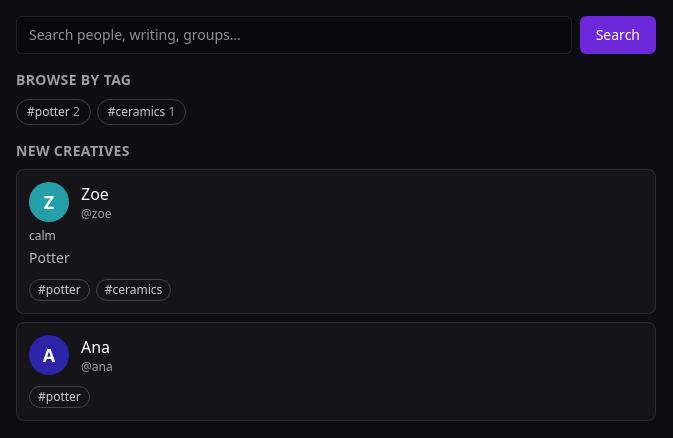
SearchPage: searching › searches people by the trimmed question and links each result to its profile, marking what matched
The image size is (673, 438).
Type "  zo  " into the field with placeholder "Search people, writing, groups…" at (294, 35), box [16, 16, 572, 54]
Then press Enter
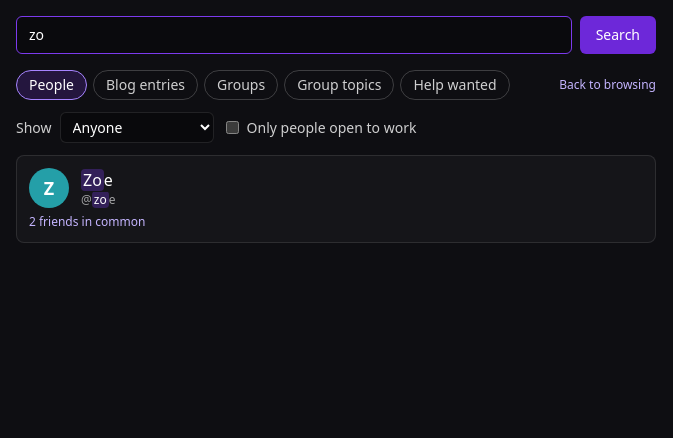
Expected: the text "Zo" is shown, [81, 169, 104, 191]
Expected: the text "2 friends in common" is shown, [29, 213, 145, 230]
